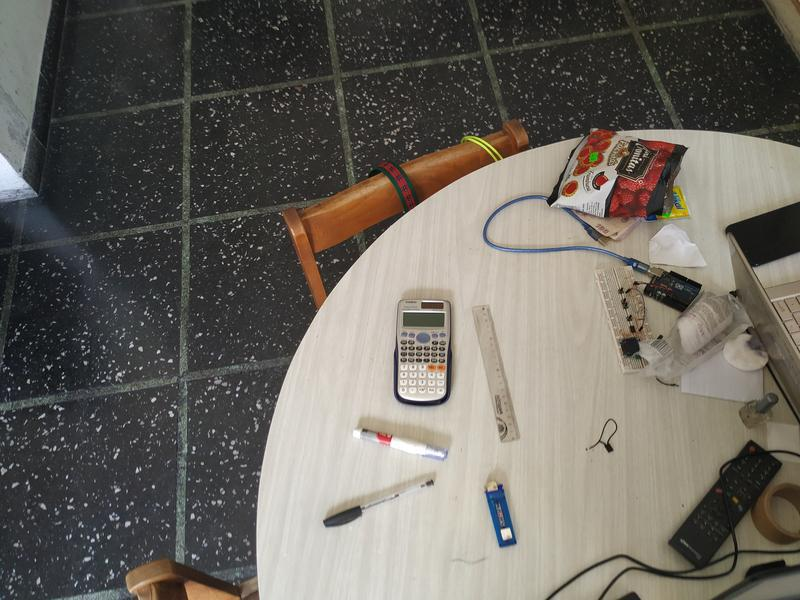calculadora: (391, 293, 458, 409)
corrector: (350, 420, 452, 465)
encendedor: (477, 471, 524, 550)
lapicera: (320, 471, 439, 537)
regla: (463, 298, 525, 449)
